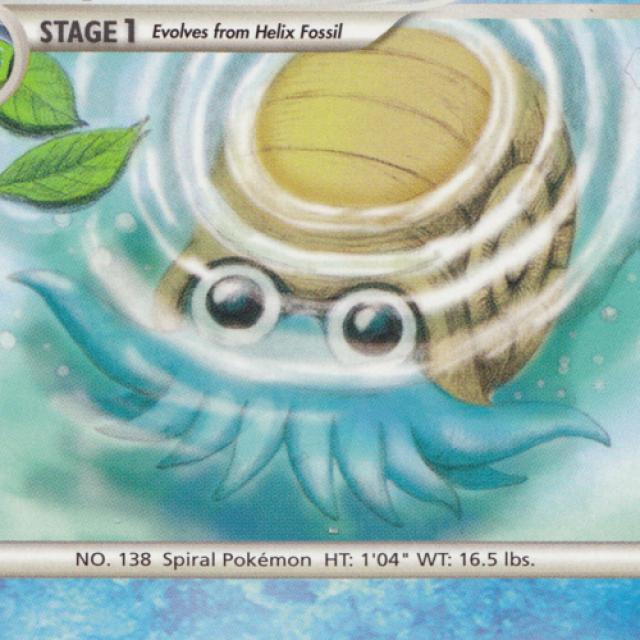Omanyte: (91, 41, 629, 538)
